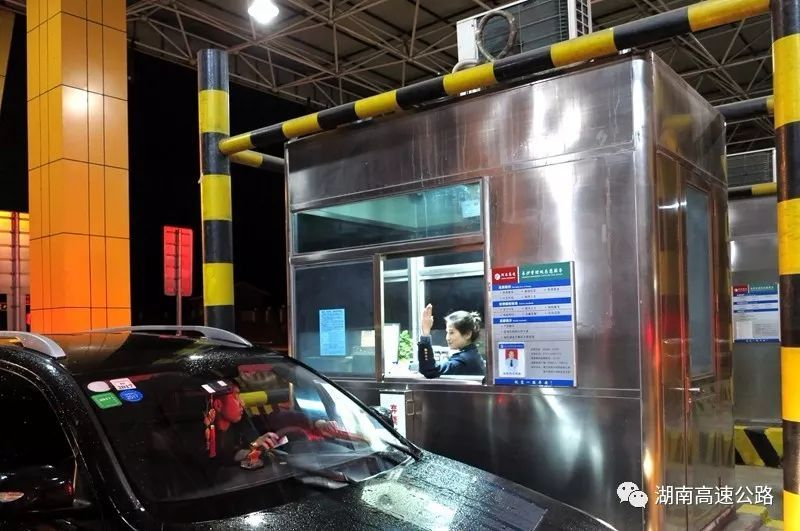handsup: (415, 295, 492, 399)
